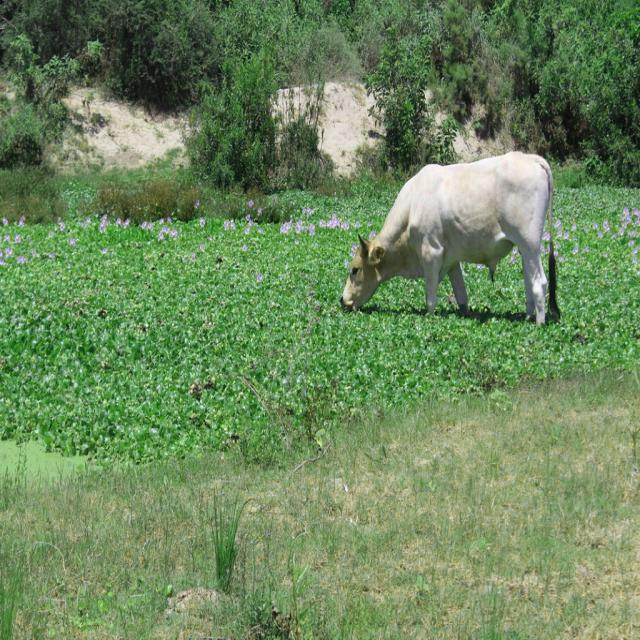cow: (341, 151, 560, 324)
